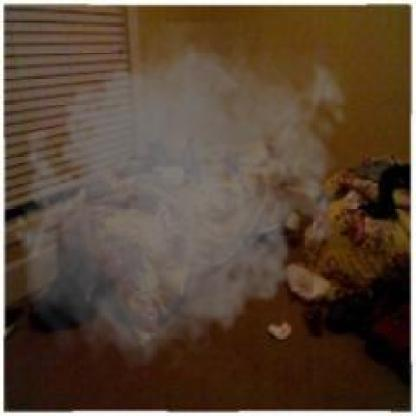Smoke: (7, 21, 357, 380)
